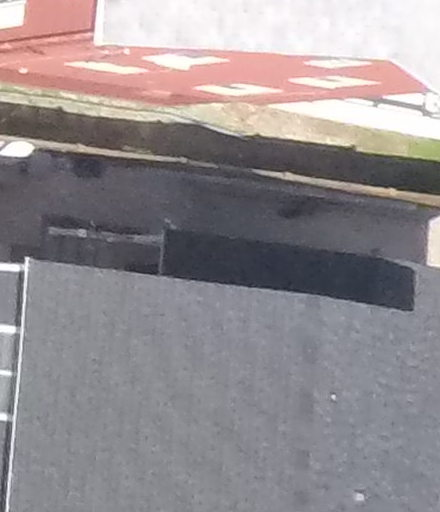trash bin: (71, 155, 109, 179)
